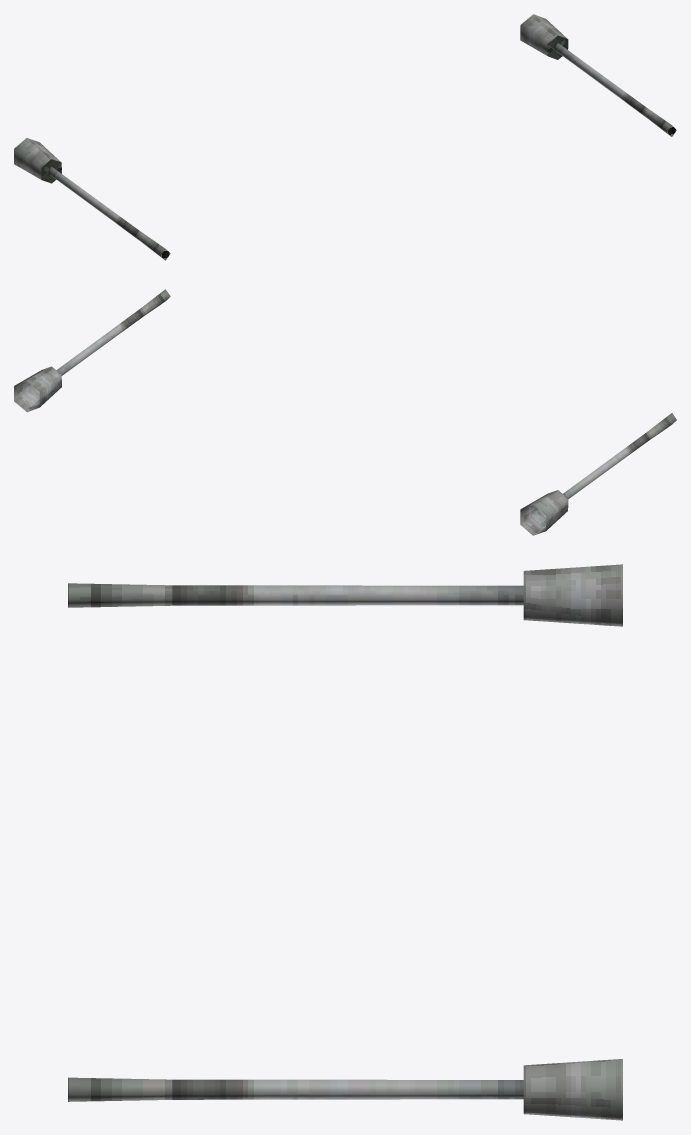
Rendered from black_sun_fighter_light_weapon_s05_l2.fbx.
The picture shows the model from 3 angles, top to bottom: view 1: azimuth 30°, elevation 25°; view 2: azimuth 150°, elevation 25°; view 3: azimuth 270°, elevation 25°; orthographic projection. The views are drawn at different scales.
Visible parts, largest first — view 1: mesh_node; view 2: mesh_node; view 3: mesh_node.
Part boxes in pixels (x1=…): mesh_node: x1=14, y1=14, x2=676, y2=260; mesh_node: x1=14, y1=289, x2=676, y2=535; mesh_node: x1=68, y1=564, x2=622, y2=1120.
Bounding box in the file's own units: 11.58 × 0.6452 × 5.23.
1 material, 1 textured.
